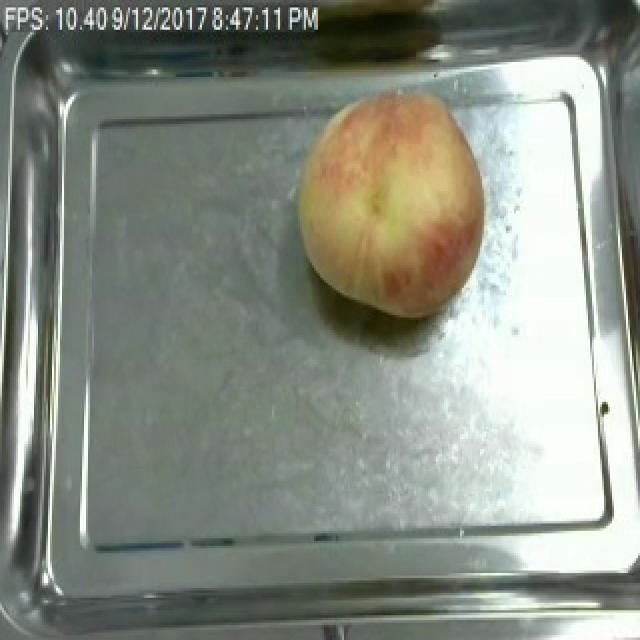Fruit: (286, 80, 498, 328)
